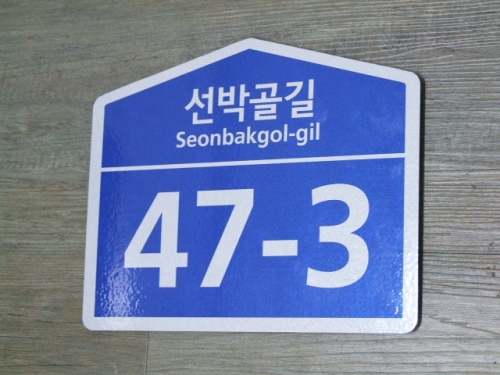building_license_plate1: (80, 36, 423, 334)
